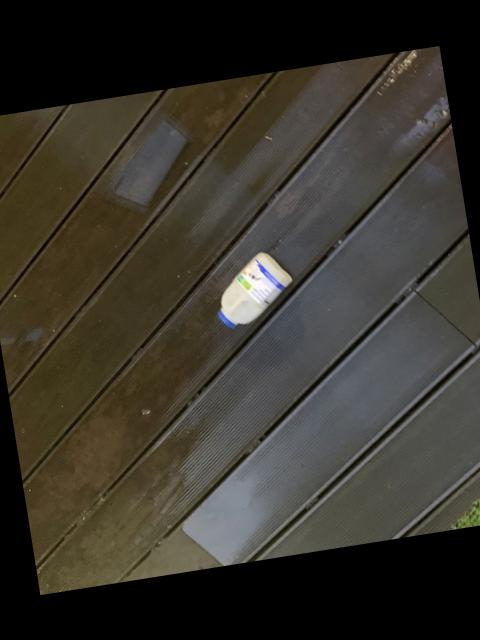plastic: (217, 254, 290, 328)
